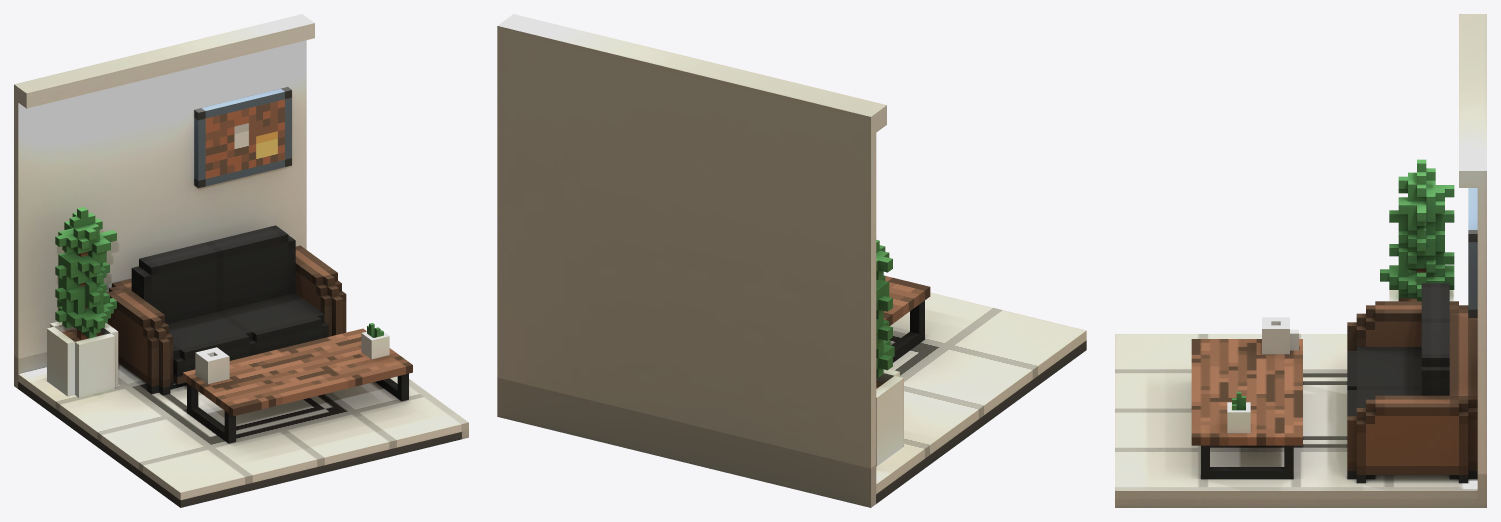
File: office-baked-6.glb
The picture shows the model from 3 angles, left to right: view 1: azimuth 30°, elevation 25°; view 2: azimuth 150°, elevation 25°; view 3: azimuth 270°, elevation 25°; orthographic projection. The views are drawn at different scales.
Parts seen in each view (by area): view 1: marble_room_wall, marble_room_floor, Office_Couch_Brown_02, Office_Table_Coffee_03_Brown, Office_Misc_Plant_03, Office_Misc_Wall_Corkboard_02, Office_Misc_Coffee_Mug, Office_Misc_Plant_01; view 2: marble_room_wall, marble_room_floor, Office_Misc_Plant_03, Office_Table_Coffee_03_Brown; view 3: marble_room_floor, Office_Couch_Brown_02, Office_Table_Coffee_03_Brown, marble_room_wall, Office_Misc_Plant_03, Office_Misc_Wall_Corkboard_02, Office_Misc_Coffee_Mug, Office_Misc_Plant_01.
Part boxes in pixels (x1,y1,x2,y2): marble_room_wall: [14, 14, 468, 507]; marble_room_floor: [18, 362, 468, 500]; Office_Couch_Brown_02: [106, 225, 346, 395]; Office_Table_Coffee_03_Brown: [183, 328, 412, 443]; Office_Misc_Plant_03: [47, 207, 118, 397]; Office_Misc_Wall_Corkboard_02: [194, 87, 291, 188]; Office_Misc_Coffee_Mug: [195, 347, 229, 384]; Office_Misc_Plant_01: [361, 323, 389, 359]; marble_room_wall: [497, 14, 1086, 507]; marble_room_floor: [876, 292, 1086, 493]; Office_Misc_Plant_03: [876, 240, 903, 465]; Office_Table_Coffee_03_Brown: [883, 276, 930, 362]; marble_room_floor: [1115, 334, 1477, 499]; Office_Couch_Brown_02: [1347, 283, 1477, 483]; Office_Table_Coffee_03_Brown: [1191, 339, 1302, 479]; marble_room_wall: [1115, 14, 1486, 507]; Office_Misc_Plant_03: [1380, 159, 1454, 301]; Office_Misc_Wall_Corkboard_02: [1468, 188, 1477, 317]; Office_Misc_Coffee_Mug: [1262, 317, 1298, 354]; Office_Misc_Plant_01: [1227, 391, 1250, 433].
Size of what is drawn, in the model's own units: 4 by 4 by 4.
Materials: 8 (8 with a texture image).
